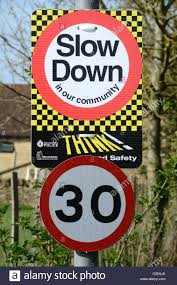Speed_limit_30km: (39, 156, 135, 252)
